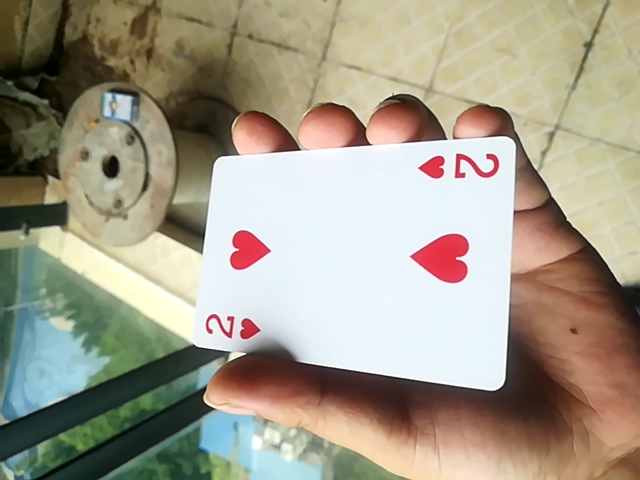hx 2: (186, 133, 516, 392)
